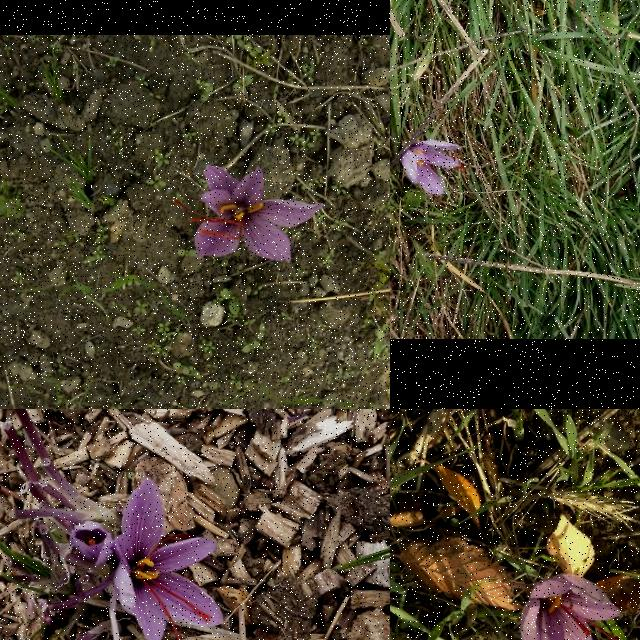flower: (114, 477, 226, 640), (172, 165, 324, 265), (519, 573, 625, 640), (400, 142, 468, 196), (69, 520, 113, 566)
